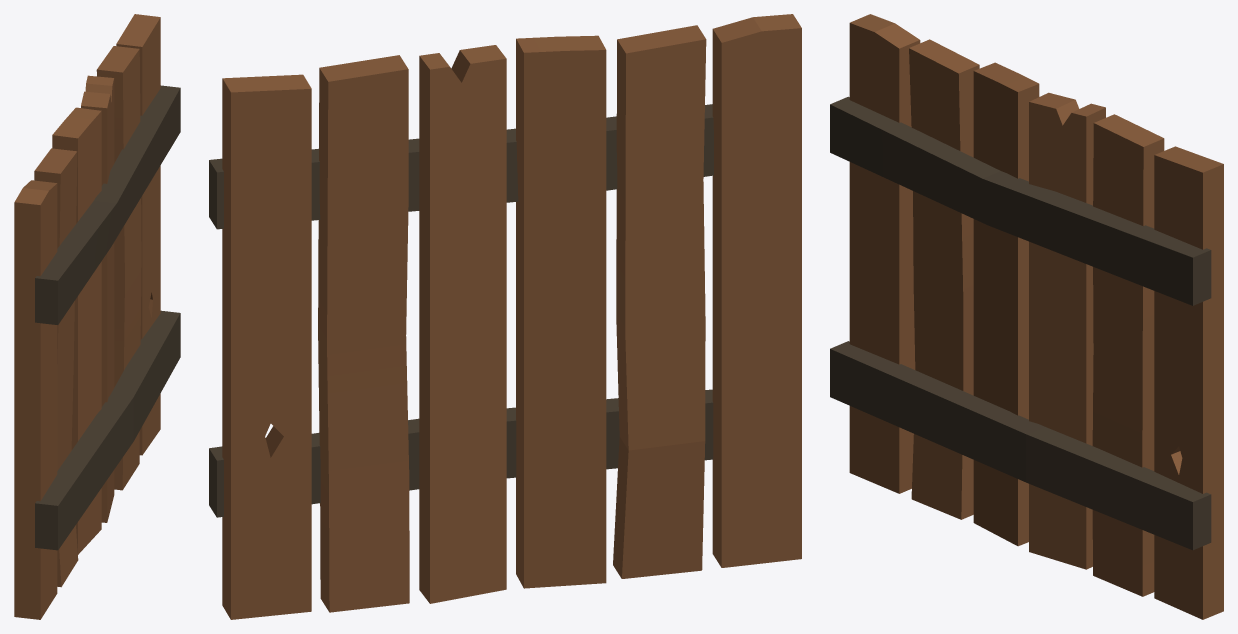
File: Fence_Breakable_A (7).fbx
The picture shows the model from 3 angles, left to right: view 1: azimuth 30°, elevation 25°; view 2: azimuth 150°, elevation 25°; view 3: azimuth 270°, elevation 25°; orthographic projection. The views are drawn at different scales.
Visible parts, largest first — view 1: Fence_Breakable_A (7); view 2: Fence_Breakable_A (7); view 3: Fence_Breakable_A (7).
Part boxes in pixels (x1,y1,x2,y2): Fence_Breakable_A (7): (14, 14, 180, 619); Fence_Breakable_A (7): (209, 14, 801, 619); Fence_Breakable_A (7): (830, 14, 1223, 619).
Bounding box in the file's own units: 3.46 × 4.4 × 3.45.
